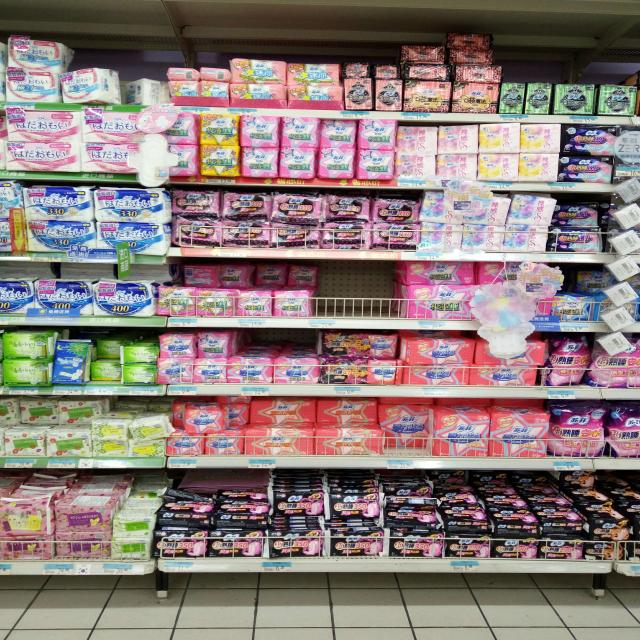void: (357, 262, 398, 332), (324, 264, 352, 332)
